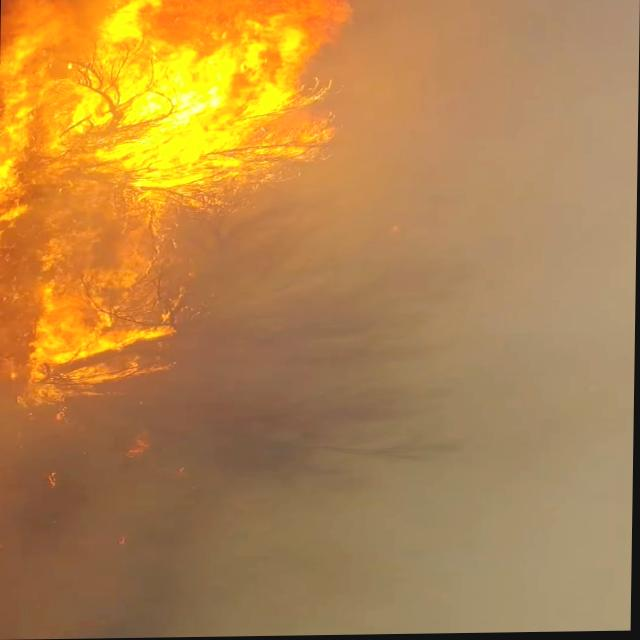fire: (67, 0, 321, 194), (0, 35, 167, 286), (9, 256, 176, 390)
